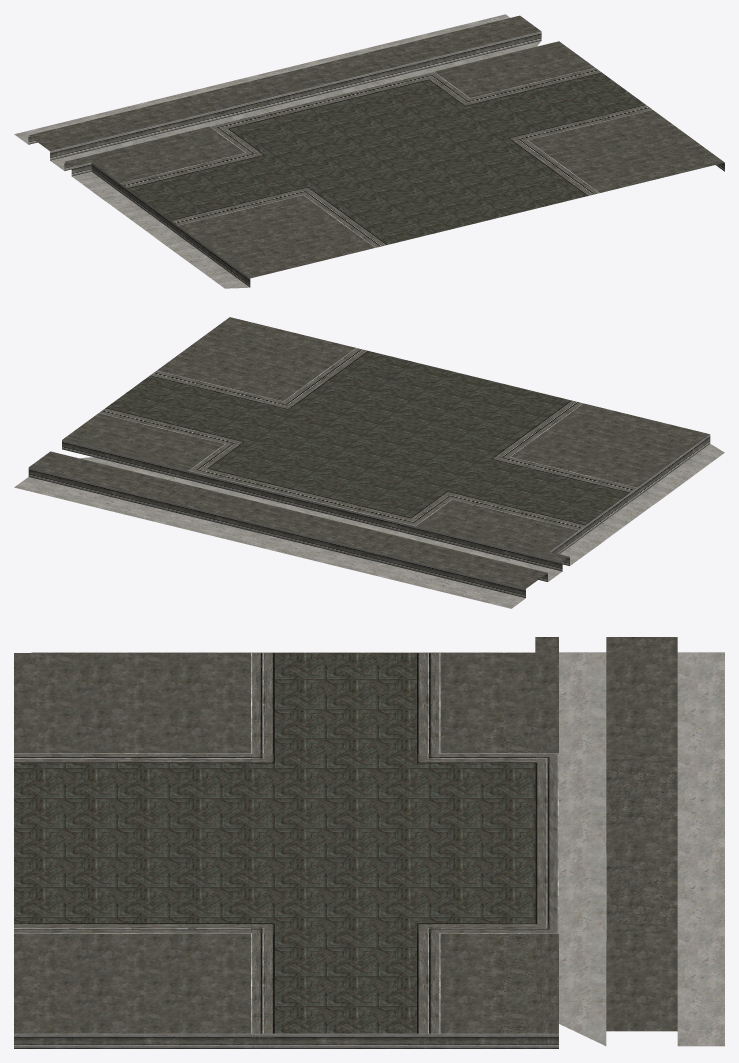
The model's file is DWARF_PALACE_MAINHALL_FLOOR04.fbx.
3 renders of one model, top to bottom at view 1: azimuth 30°, elevation 25°; view 2: azimuth 150°, elevation 25°; view 3: azimuth 270°, elevation 25°, orthographic. The views are drawn at different scales.
Visible parts, largest first — view 1: DWARF_PALACE_MAINHALL_FLOOR04; view 2: DWARF_PALACE_MAINHALL_FLOOR04; view 3: DWARF_PALACE_MAINHALL_FLOOR04.
Boxes of the visible parts, <box> form: DWARF_PALACE_MAINHALL_FLOOR04: <box>14,14,724,288</box>; DWARF_PALACE_MAINHALL_FLOOR04: <box>14,317,724,608</box>; DWARF_PALACE_MAINHALL_FLOOR04: <box>14,637,724,1048</box>.
Bounding box in the file's own units: 396127 × 7129 × 300000.
Materials: 7 (7 with a texture image).
